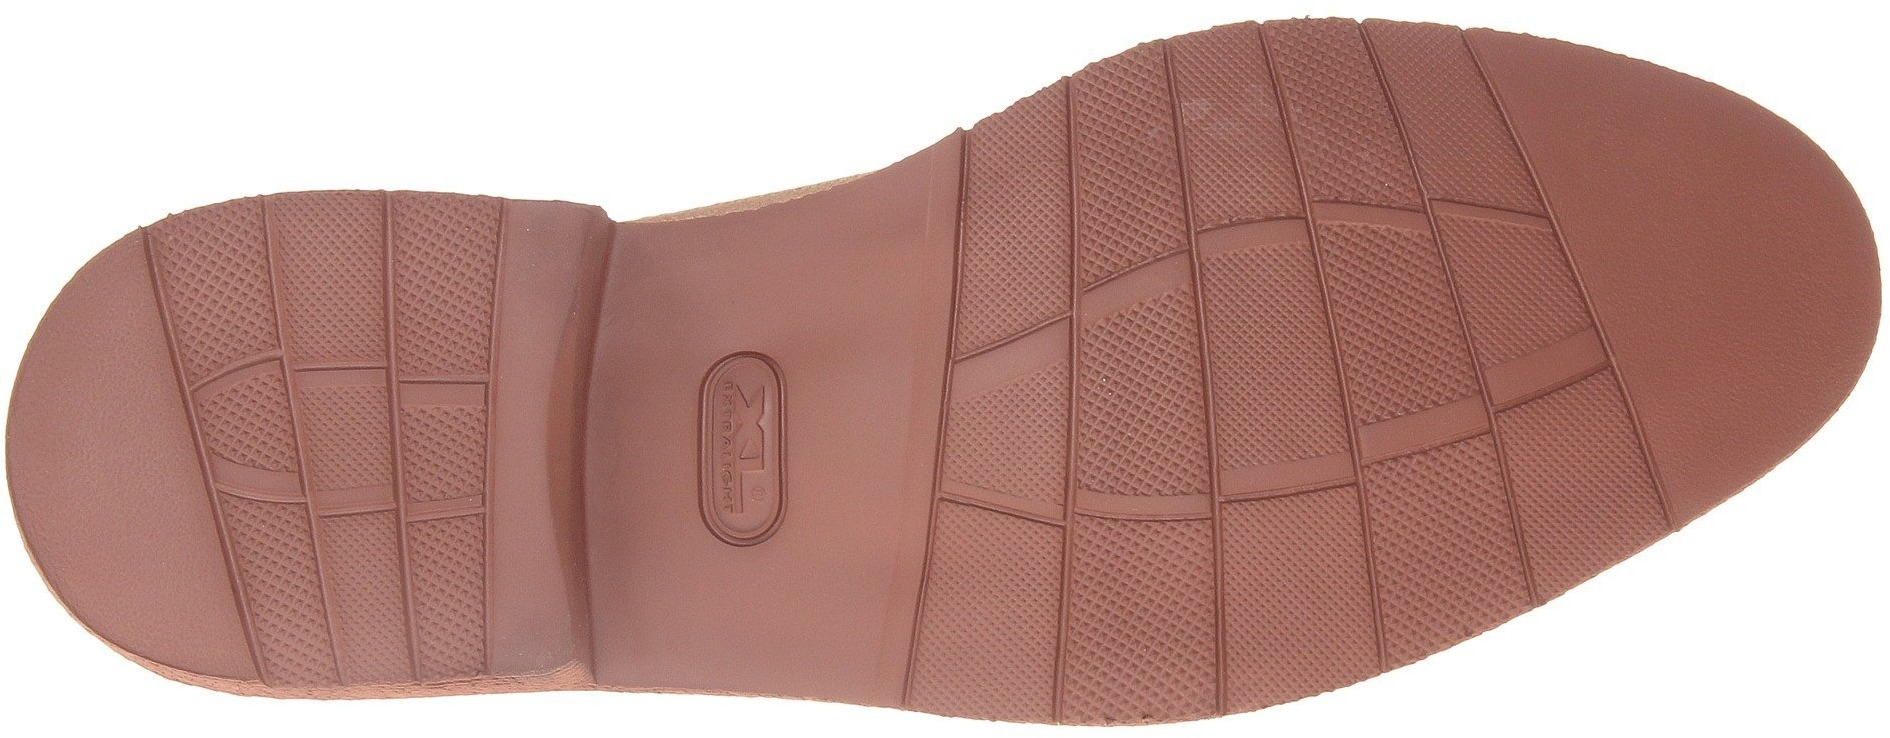other: (241, 424, 485, 660), (1160, 285, 1398, 512), (1172, 40, 1392, 281), (180, 210, 391, 418), (1405, 371, 1609, 579), (965, 130, 1157, 338), (950, 356, 1150, 539), (1583, 113, 1760, 305), (19, 389, 190, 576), (941, 546, 1125, 717), (1157, 519, 1319, 687), (1404, 194, 1554, 361), (1638, 307, 1784, 458)
